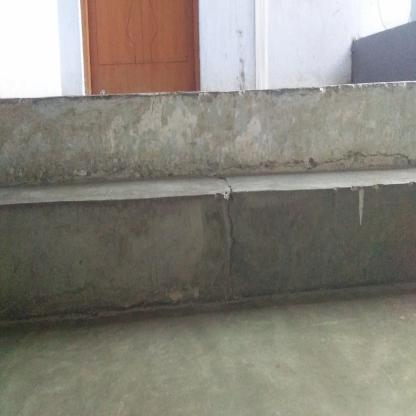stairs: (1, 82, 416, 327)
